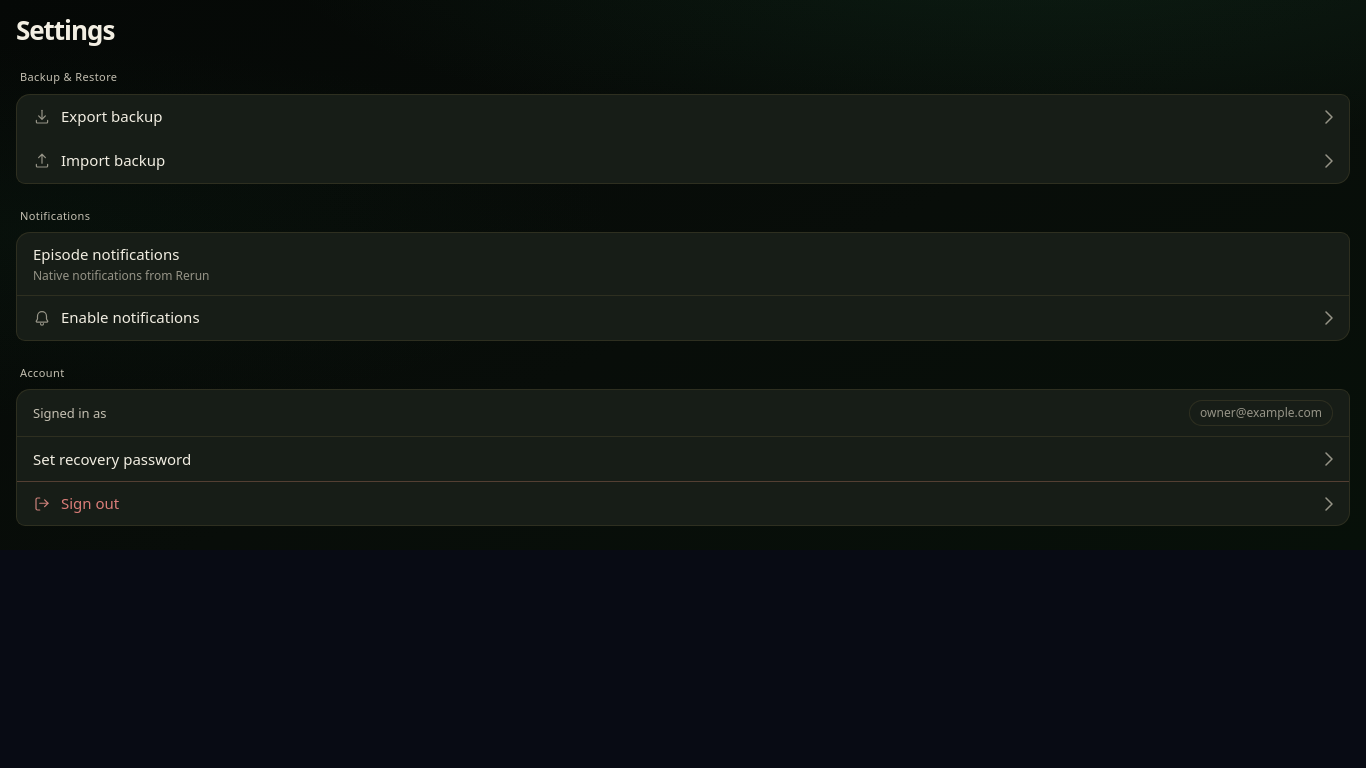
Scenario: Settings: Backup & Restore section › downloads the built backup and shows calm success feedback, including for an empty database
Click the button "Export backup" at (112, 116), box [17,95,1349,139]
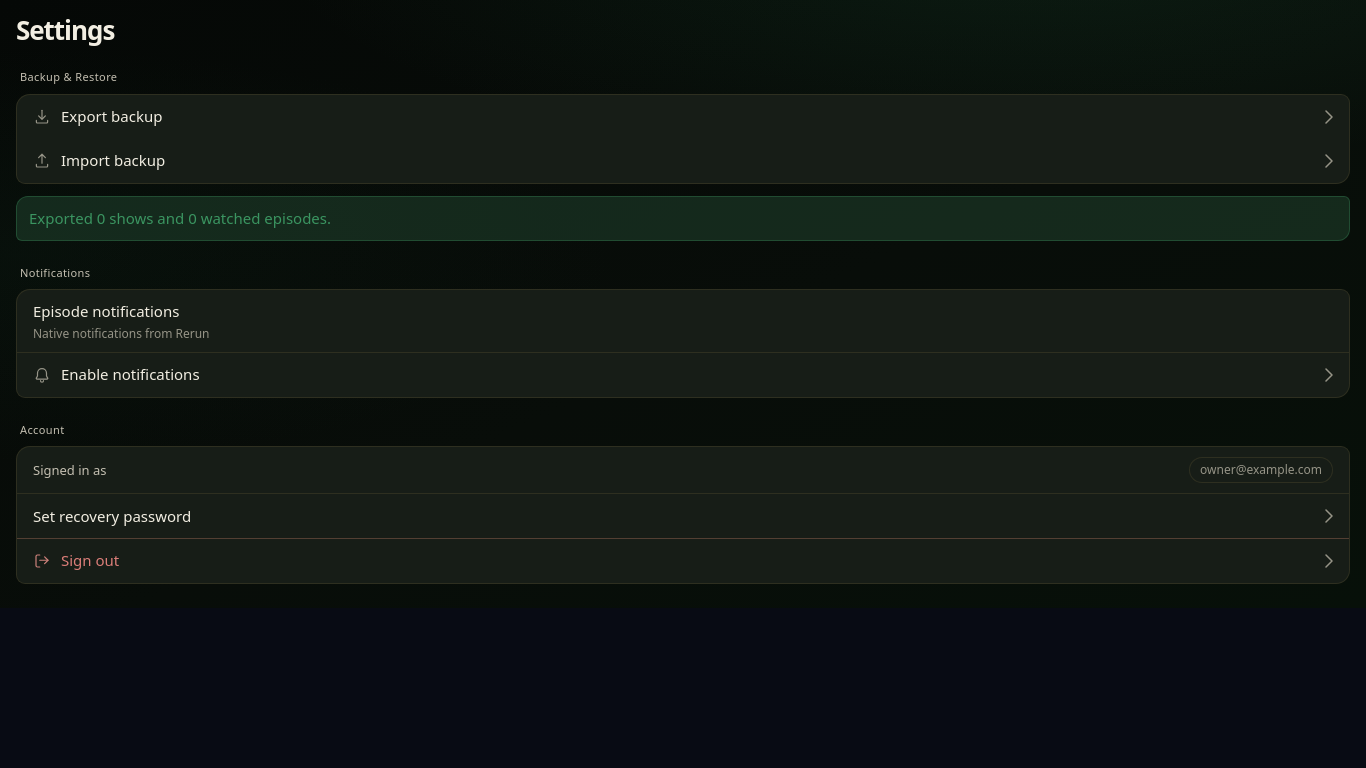
Expected: the text "0 shows" is shown, [29,208,331,228]
